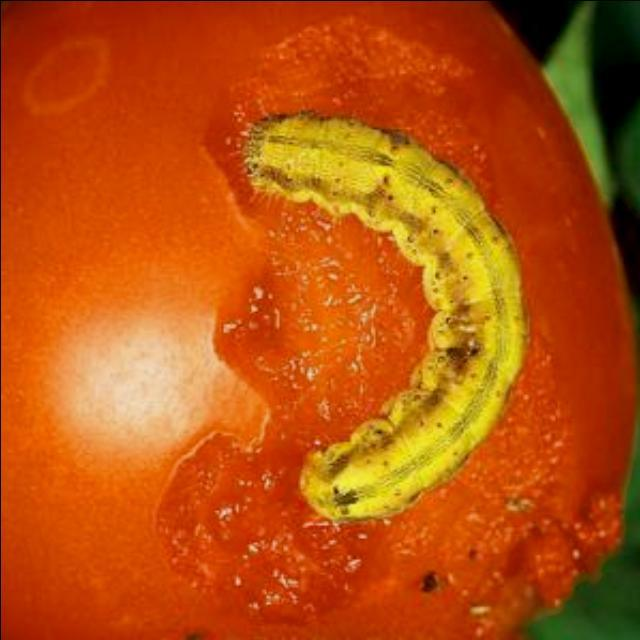Cotton bollworm: (212, 100, 538, 528)
